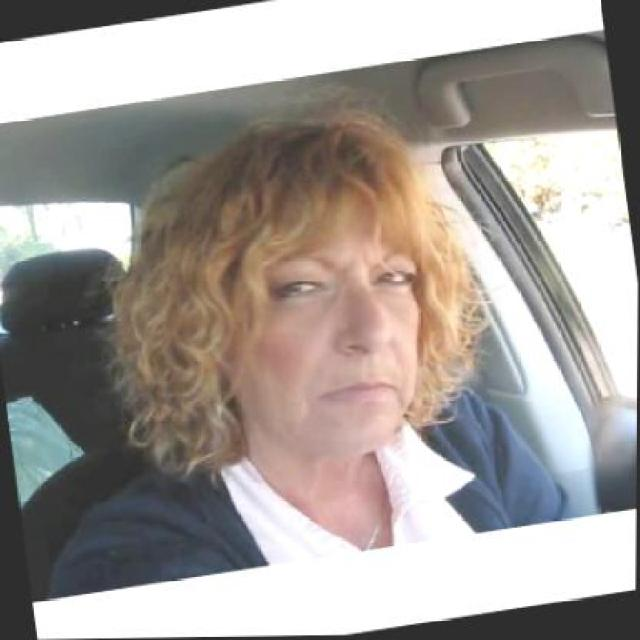attentif: (194, 96, 446, 470)
